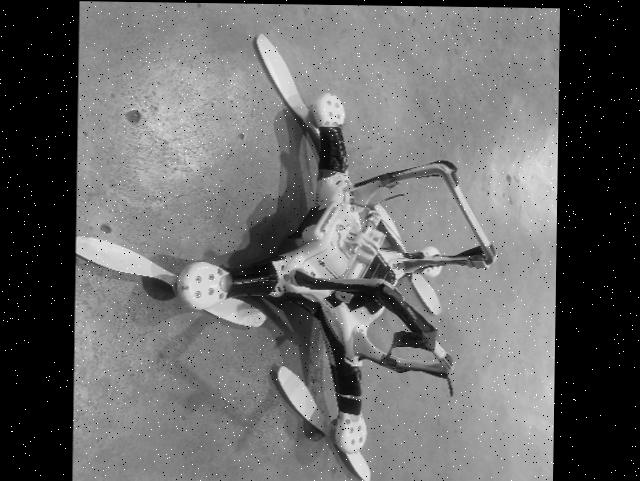drone: (73, 1, 508, 481)
